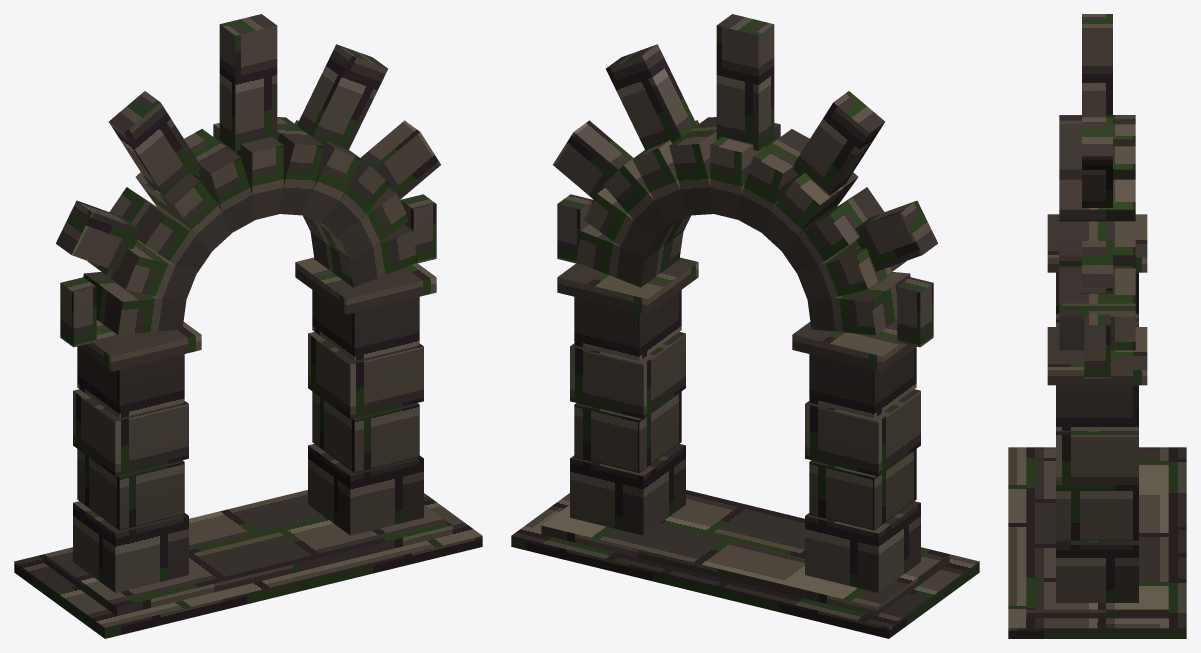
File: realm_arch.glb
3 renders of one model, left to right at view 1: azimuth 30°, elevation 25°; view 2: azimuth 150°, elevation 25°; view 3: azimuth 270°, elevation 25°, orthographic.
Parts seen in each view (by area): view 1: realm_arch; view 2: realm_arch; view 3: realm_arch.
Part boxes in pixels (x1=…): realm_arch: x1=14, y1=14, x2=482, y2=638; realm_arch: x1=511, y1=14, x2=979, y2=638; realm_arch: x1=1008, y1=14, x2=1186, y2=638.
Bounding box in the file's own units: 3.6 × 4.87 × 1.5.
1 material, 1 textured.
